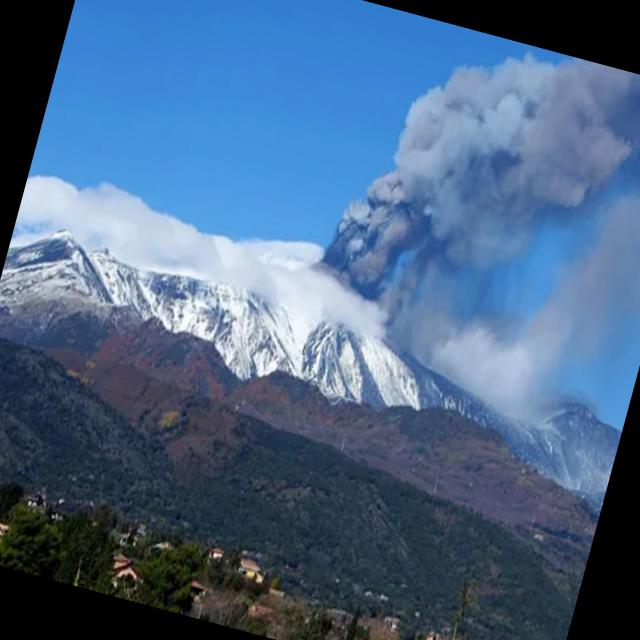Smoke: (297, 7, 640, 441)
